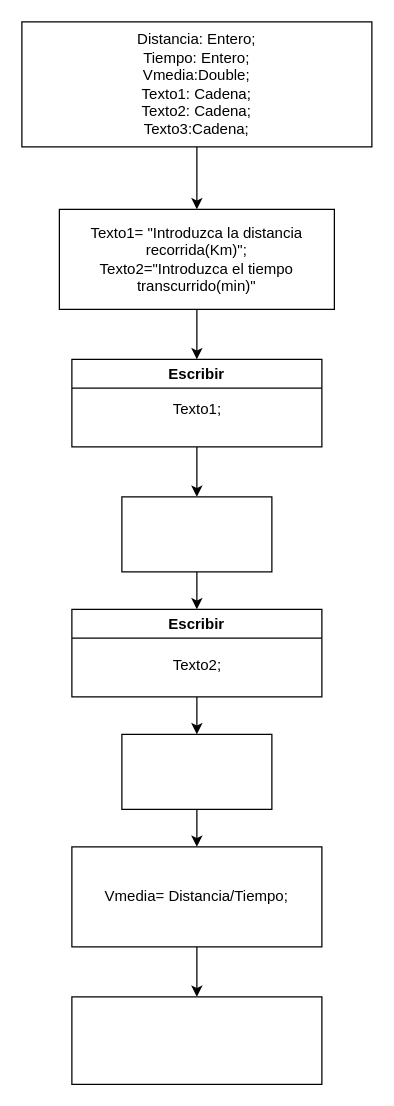
This 394x1106 diagram has some shape labels left out. Each missing label, with the centre of its shape:
Distancia = 370;: point 196,534
Texto3= "La velocidad media es " + Vmedia;: point 196,1040
Tiempo= 240;: point 196,771
